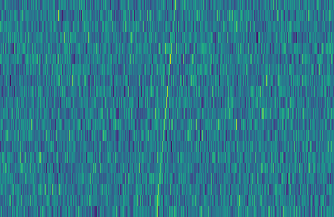signal: (152, 0, 179, 217)
